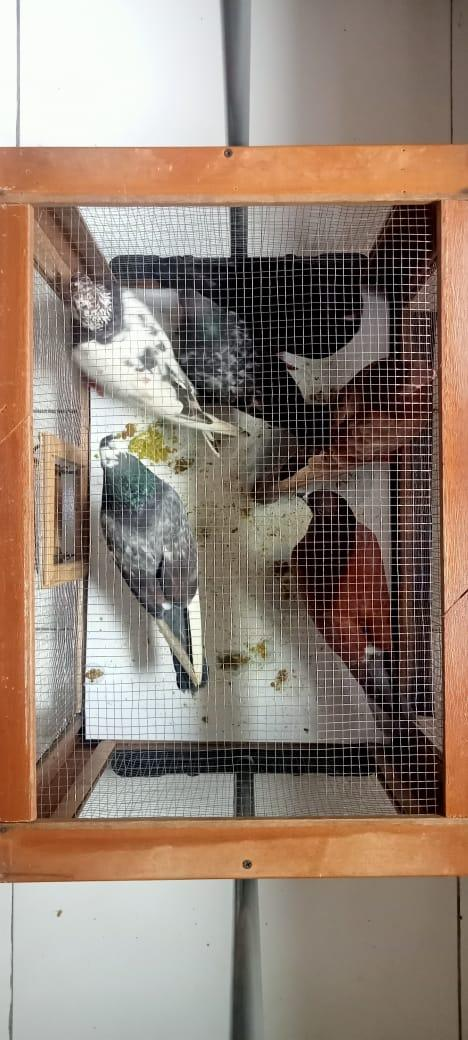Merpati: (68, 267, 254, 455), (292, 490, 421, 739), (249, 355, 438, 507), (98, 435, 209, 690), (173, 291, 334, 447), (158, 261, 366, 358)
